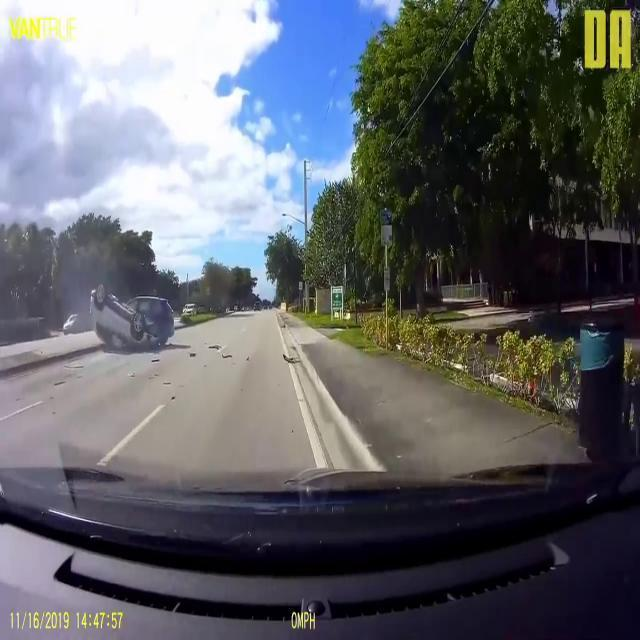accident: (90, 280, 174, 354)
